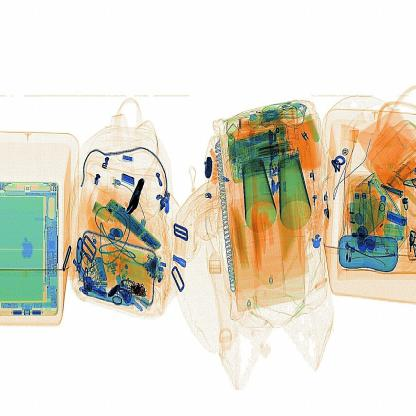knife: (127, 178, 146, 214)
